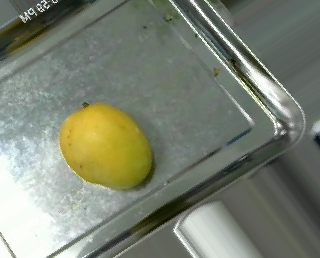Mango: (57, 102, 155, 191)
